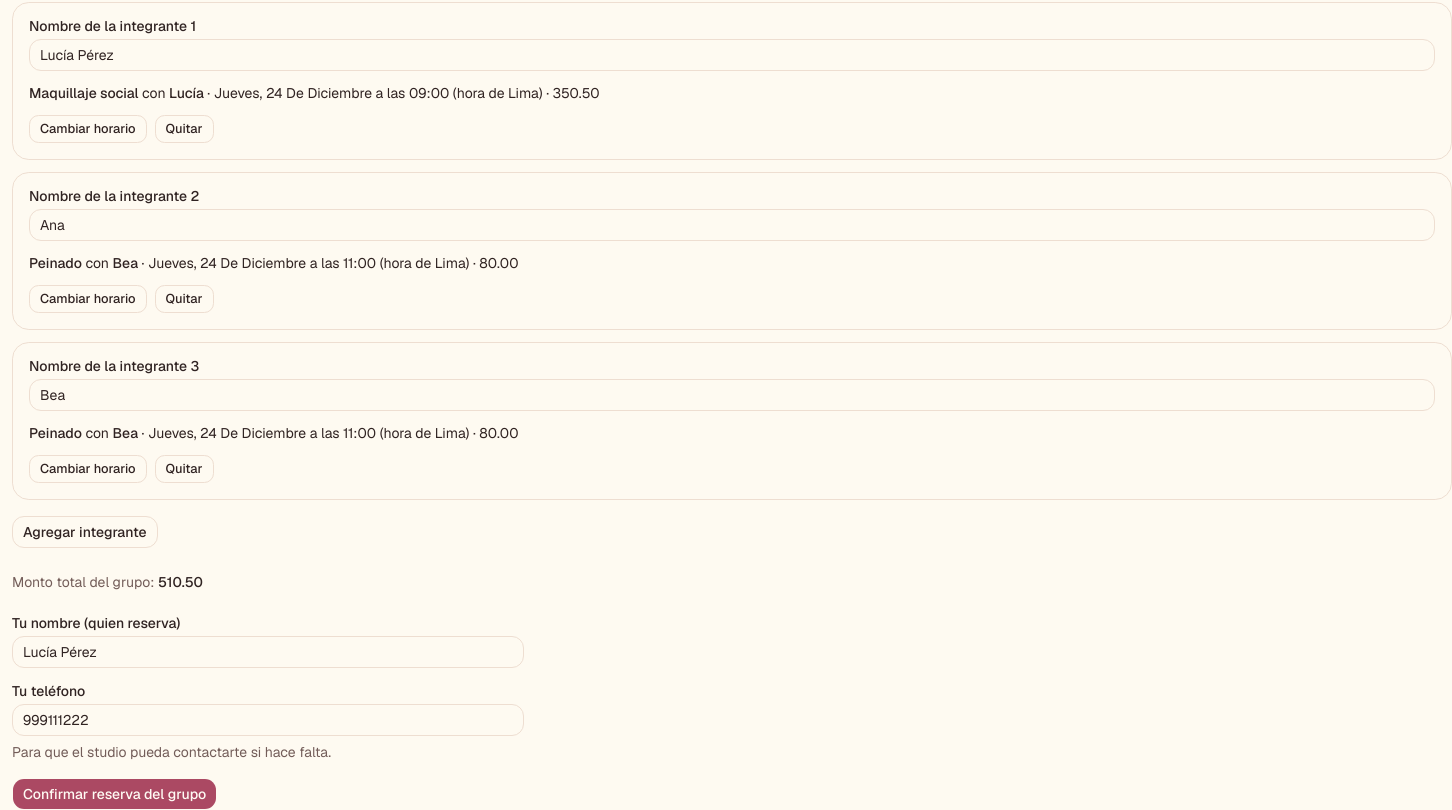
Test: choque parcial › los errores de validación por integrante aparecen en la integrante correcta
The width and height of the screenshot is (1452, 810).
(page scrolled)
Click the button "Confirmar reserva del grupo".
click(115, 794)  # box left=12, top=778, right=217, bottom=809
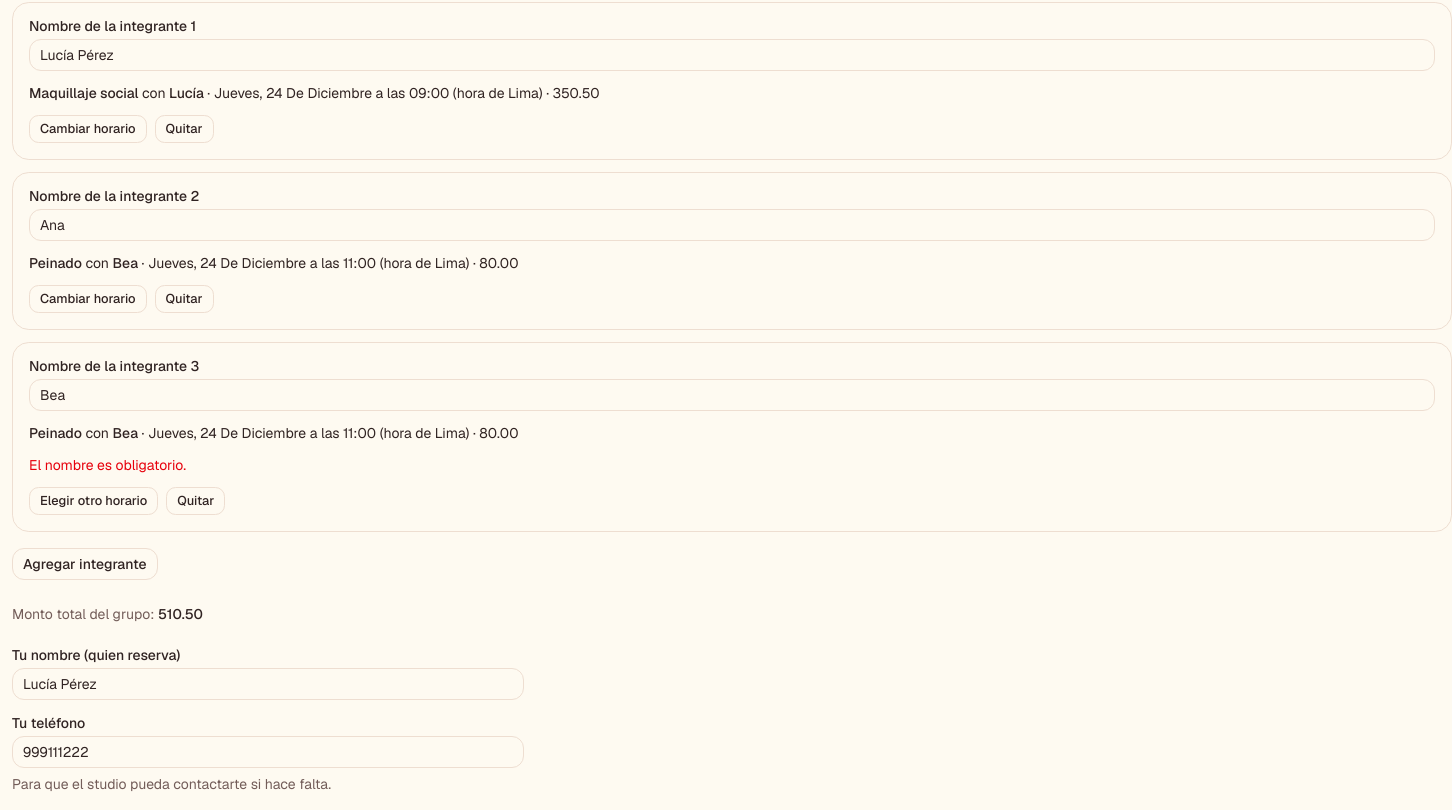
Expected: the 3rd list item shows "Nombre de la integrante 3", left=12, top=342, right=1451, bottom=532
Expected: the number of messages is 1, left=29, top=456, right=186, bottom=474
